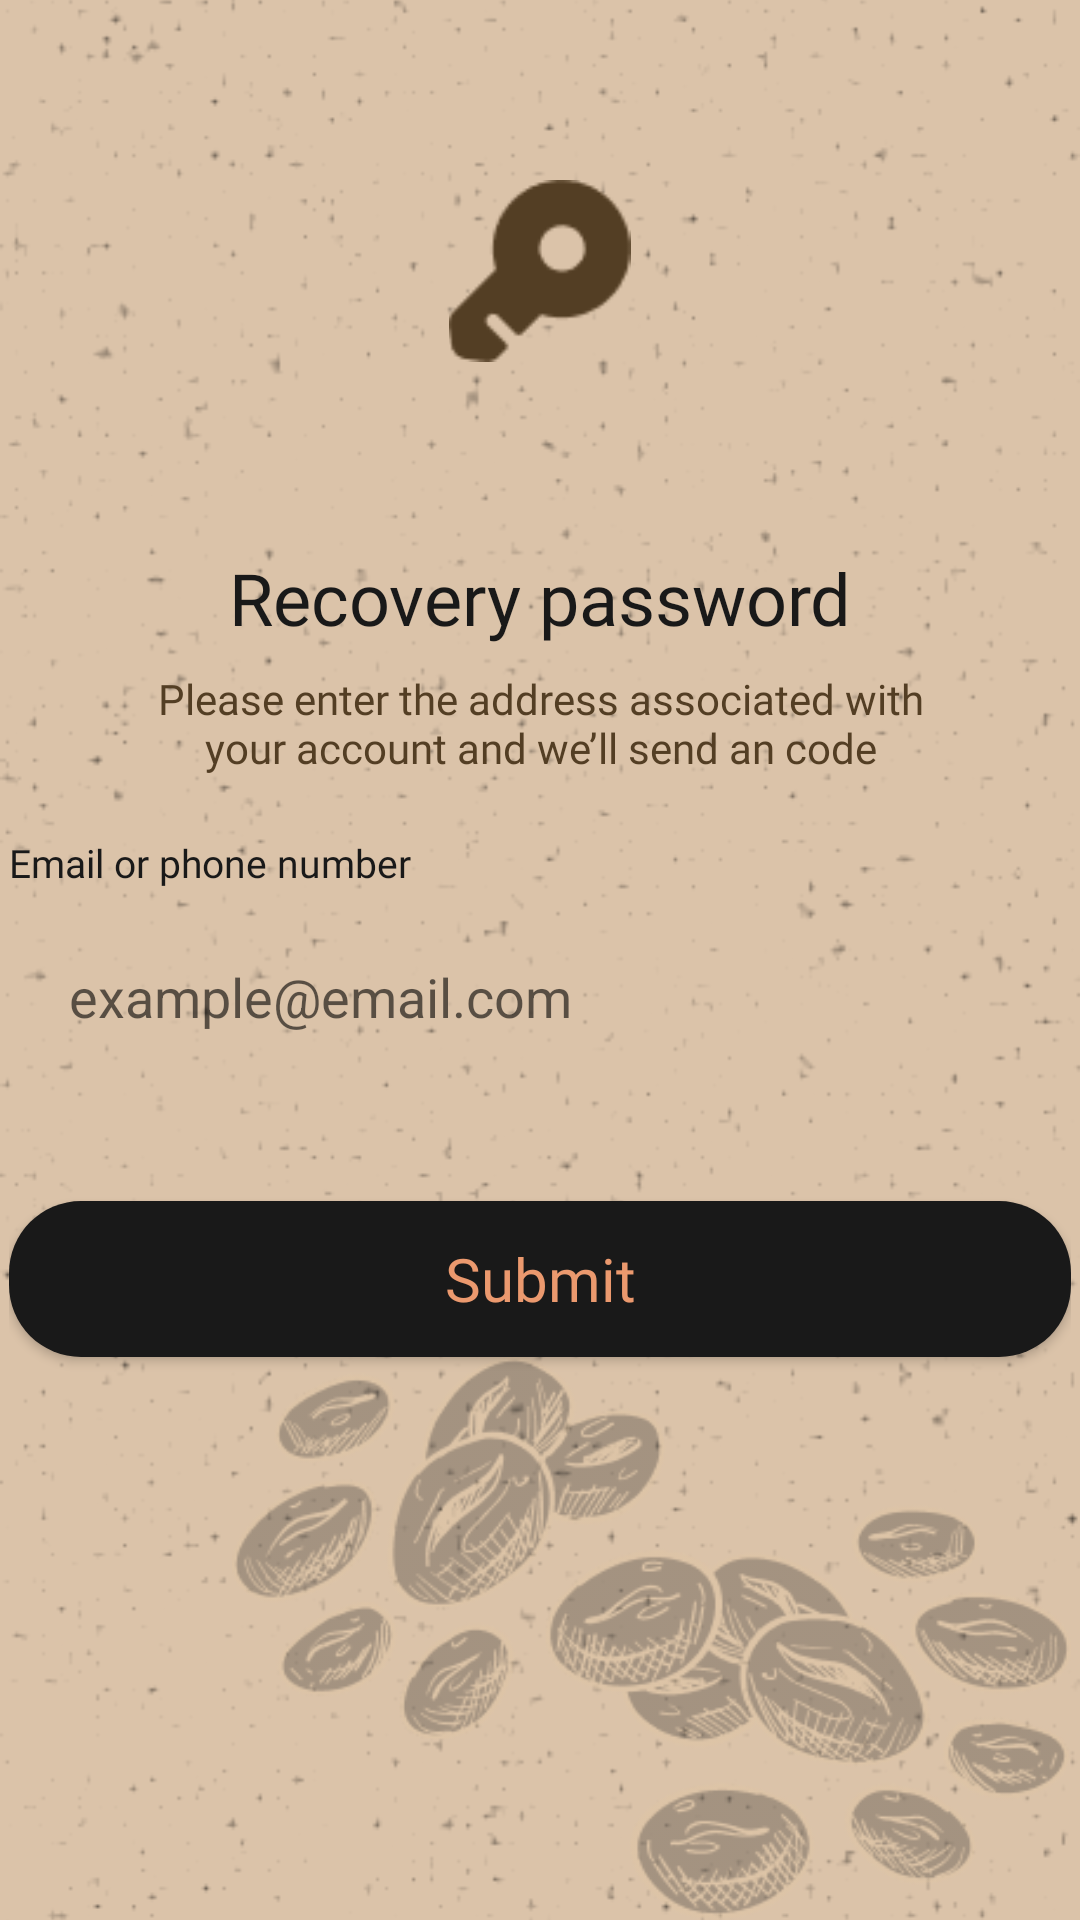

Screen size 1080px x 1920px. Icon name, then its box in pixels as [x1, y1, x2, y2]:
vectorkey: [448, 180, 631, 362]
